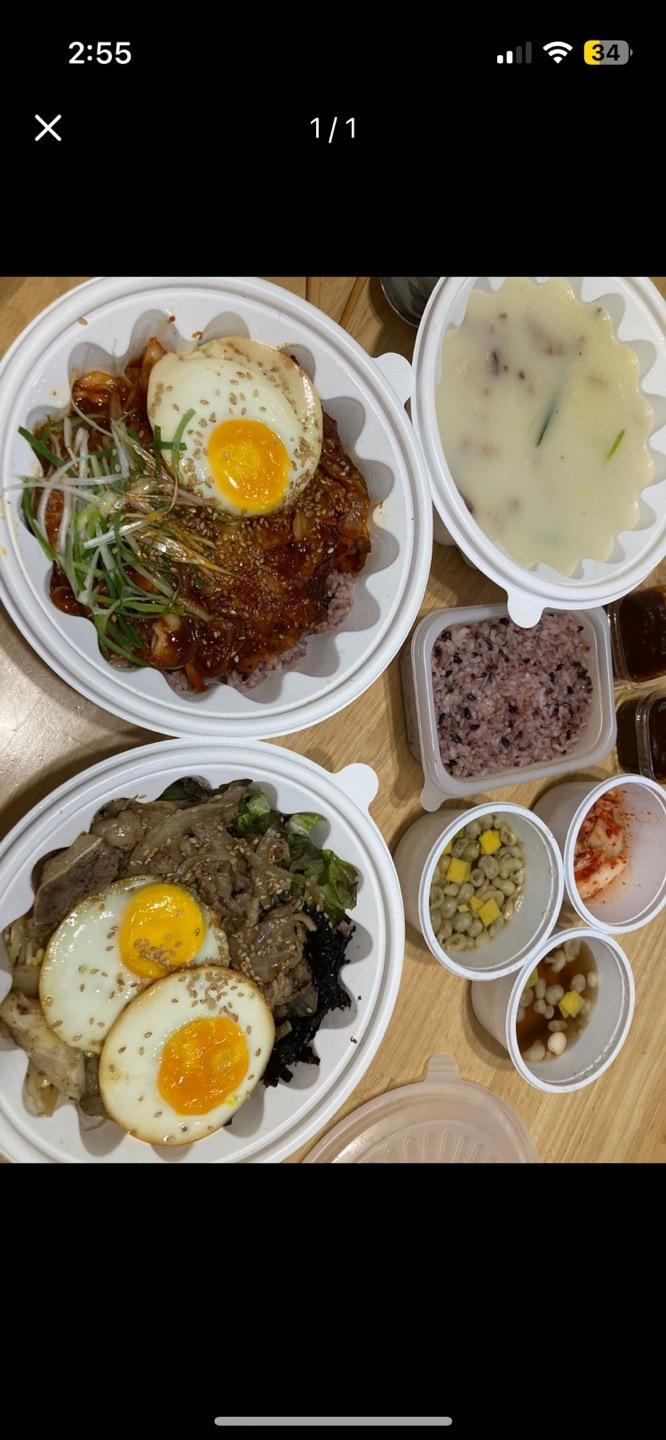Lunch Box: (0, 277, 432, 738), (0, 739, 404, 1162), (408, 276, 665, 623), (402, 604, 615, 810)
cup: (394, 804, 563, 981), (472, 927, 634, 1092), (536, 775, 665, 932)
